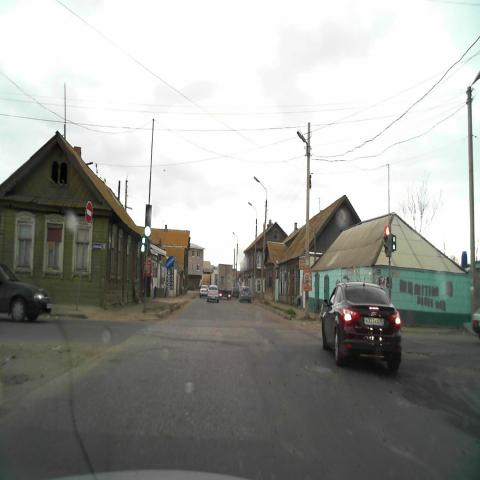3_1: (85, 200, 93, 225)
